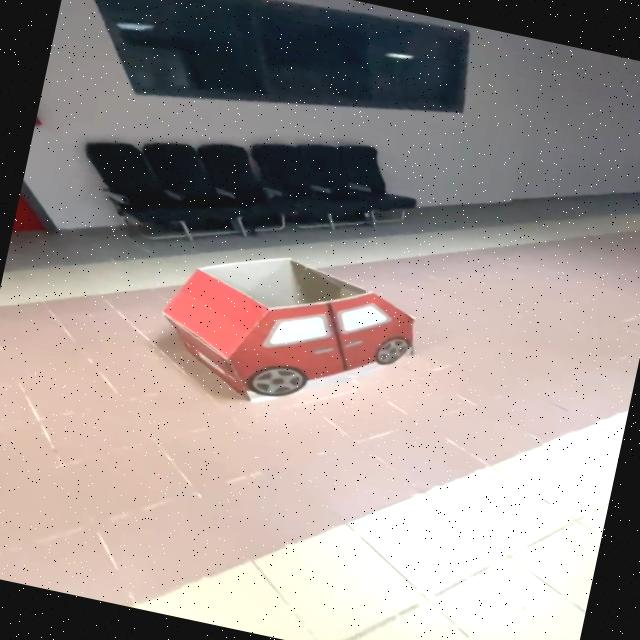red_car: (118, 212, 479, 456)
